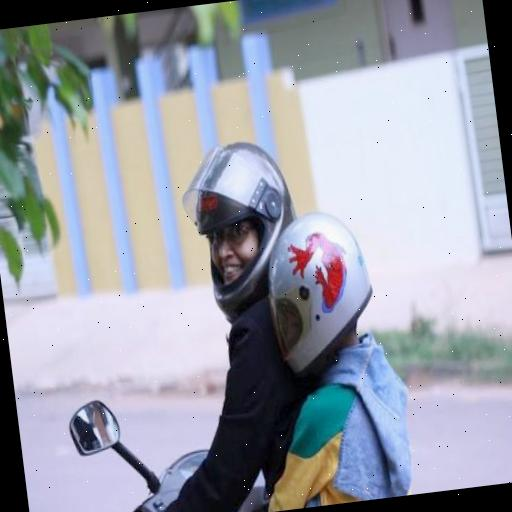helmet: (82, 113, 333, 512)
